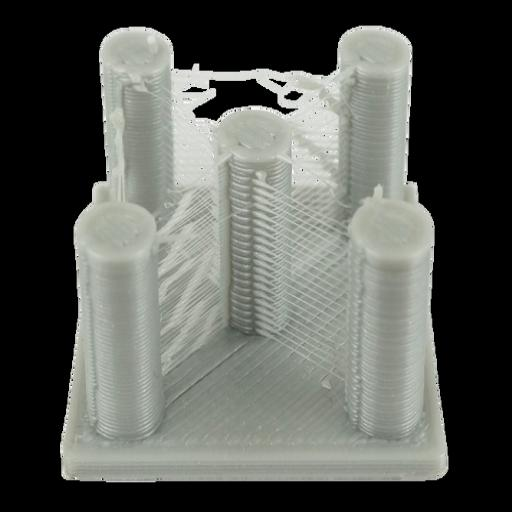stringing: (251, 174, 345, 406), (150, 171, 224, 374), (277, 71, 355, 184), (151, 92, 214, 190)
